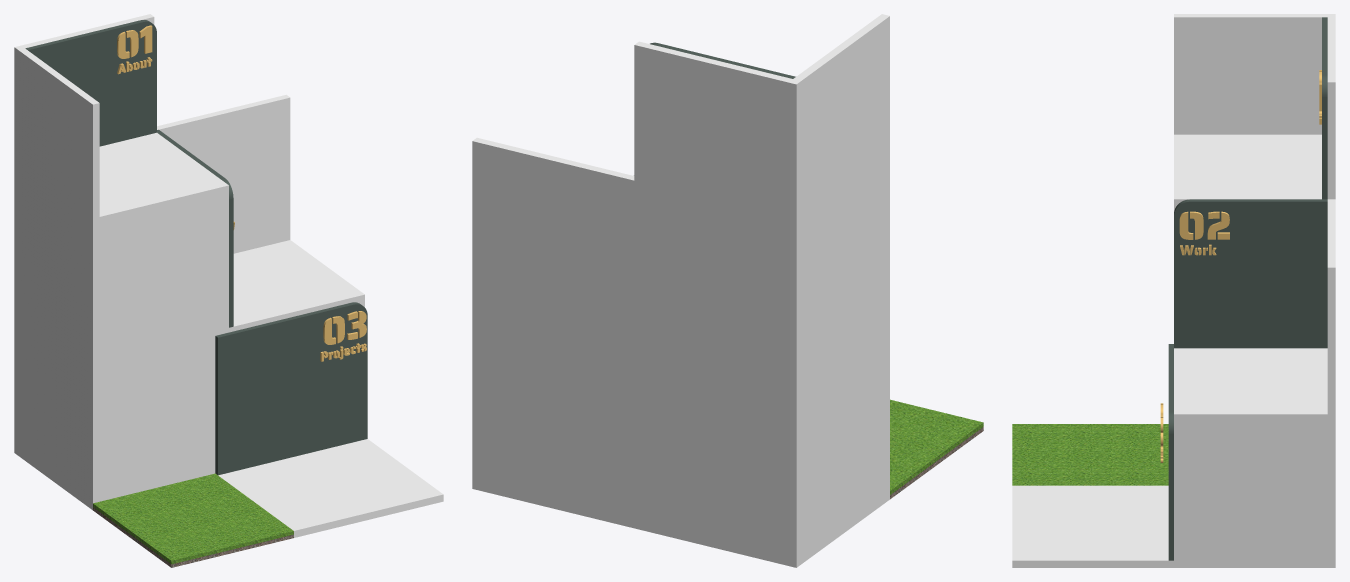
File: maxtower_base.glb
3 renders of one model, left to right at view 1: azimuth 30°, elevation 25°; view 2: azimuth 150°, elevation 25°; view 3: azimuth 270°, elevation 25°, orthographic. The views are drawn at different scales.
Visible parts, largest first — view 1: group_0, group_5, group_8, group_7, group_6, group_9; view 2: group_0, group_8; view 3: group_0, group_6, group_8, group_5, group_7.
Part boxes in pixels (x1,y1,x2,y2): group_0: [14, 14, 443, 537]; group_5: [215, 302, 367, 475]; group_8: [93, 473, 293, 564]; group_7: [25, 20, 156, 146]; group_6: [157, 129, 233, 327]; group_9: [93, 507, 293, 567]; group_0: [472, 14, 889, 567]; group_8: [890, 399, 983, 494]; group_0: [1012, 14, 1335, 567]; group_6: [1174, 199, 1327, 348]; group_8: [1012, 424, 1168, 485]; group_5: [1168, 344, 1173, 560]; group_7: [1322, 17, 1327, 199].
Size of the model in its own units: 6.1 by 8.69 by 6.1.
Materials: 6 (3 with a texture image).
